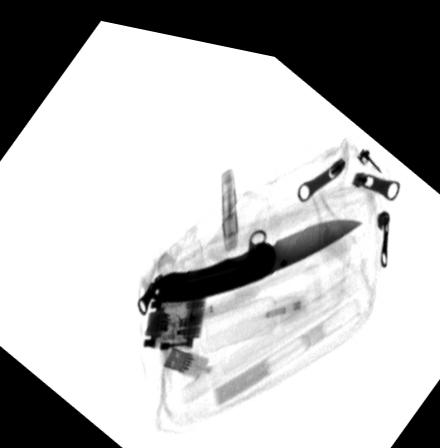Knife: (148, 202, 366, 299)
